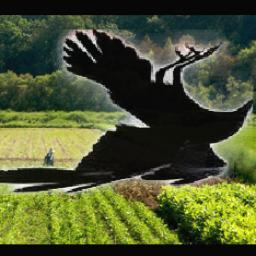Crow: (0, 30, 254, 196)
